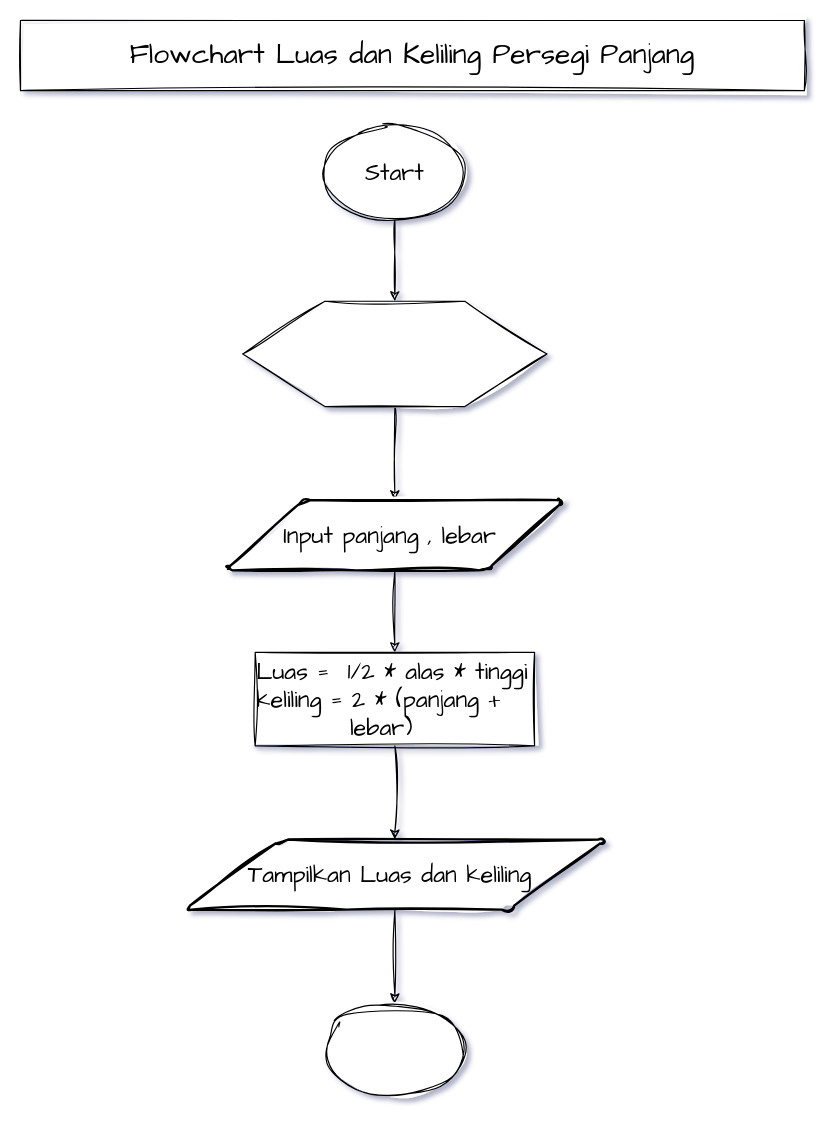
Some shapes in this 832 by 1124 pixel diagram are drawn without their labels. Each missing label, with the centre of its shape:
End: pixel 394 1049
Float , panjang , lebar persegi panjang: pixel 394 353
